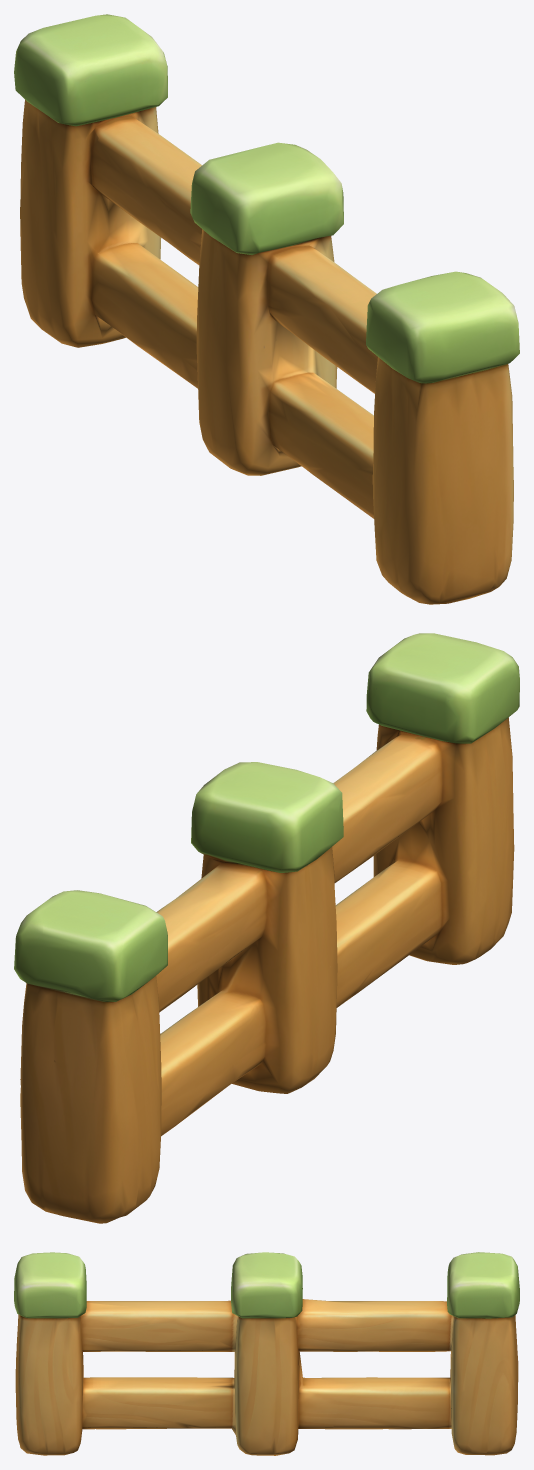
File: Kit_M_Fence_raw.glb
The picture shows the model from 3 angles, top to bottom: view 1: azimuth 30°, elevation 25°; view 2: azimuth 150°, elevation 25°; view 3: azimuth 270°, elevation 25°; orthographic projection. The views are drawn at different scales.
Parts seen in each view (by area): view 1: tripo_node_c5902593-74d9-4c3e-b902-3abac497e472; view 2: tripo_node_c5902593-74d9-4c3e-b902-3abac497e472; view 3: tripo_node_c5902593-74d9-4c3e-b902-3abac497e472.
Part boxes in pixels (x1=…): tripo_node_c5902593-74d9-4c3e-b902-3abac497e472: x1=14, y1=14, x2=519, y2=604; tripo_node_c5902593-74d9-4c3e-b902-3abac497e472: x1=14, y1=633, x2=519, y2=1223; tripo_node_c5902593-74d9-4c3e-b902-3abac497e472: x1=14, y1=1252, x2=519, y2=1455.
Bounding box in the file's own units: 0.1566 × 0.391 × 1.
1 material, 1 textured.
